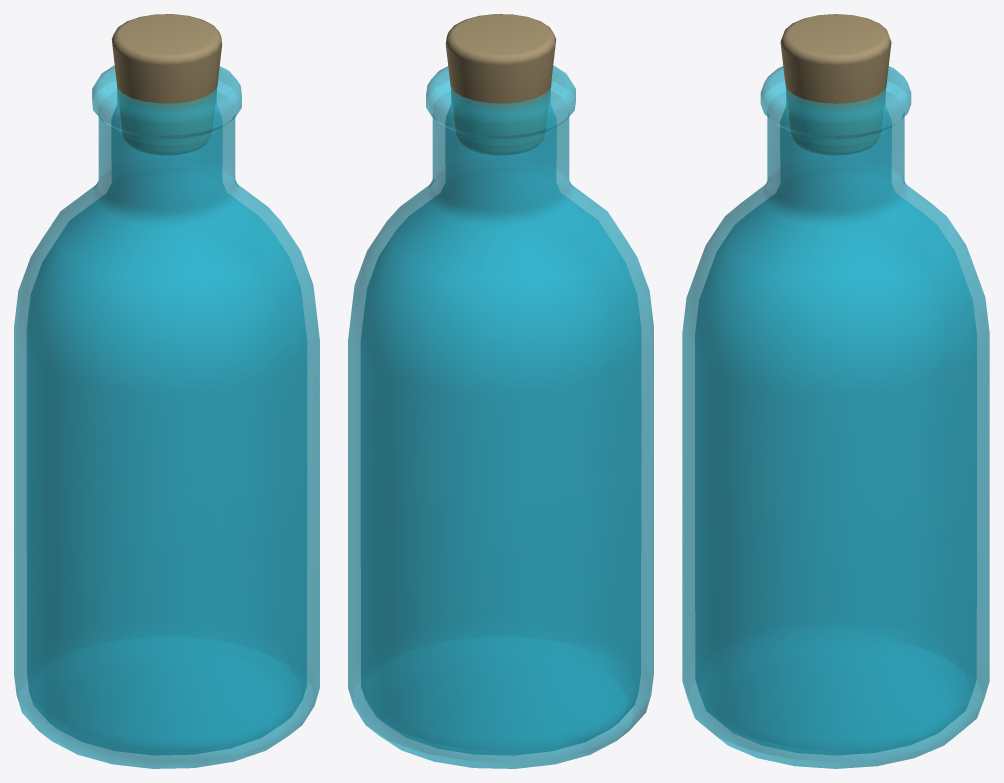
File: OBJ_LightningInABottle.fbx
3 views of the same model, side by side, from view 1: azimuth 30°, elevation 25°; view 2: azimuth 150°, elevation 25°; view 3: azimuth 270°, elevation 25° (orthographic).
Visible parts, largest first — view 1: OBJ_LightningInABottle; view 2: OBJ_LightningInABottle; view 3: OBJ_LightningInABottle.
Part boxes in pixels (left/top/right/bottom): OBJ_LightningInABottle: left=14, top=14, right=319, bottom=768; OBJ_LightningInABottle: left=348, top=14, right=653, bottom=768; OBJ_LightningInABottle: left=682, top=14, right=989, bottom=768.
Bounding box in the file's own units: 43.52 × 107 × 43.52.
